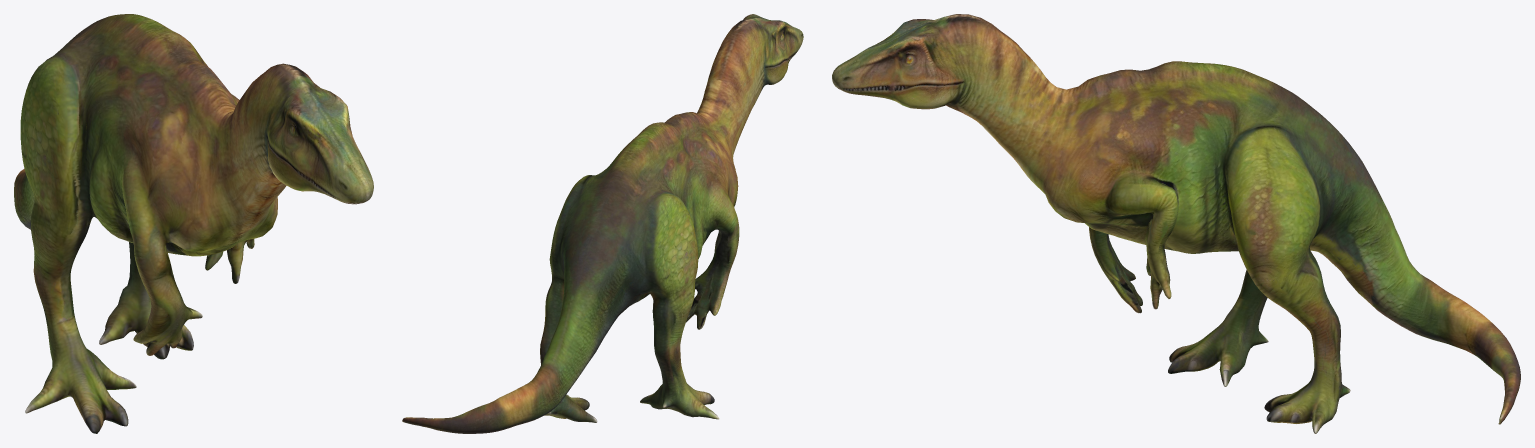
The model's file is 17 Megaraptor 3D.glb.
The picture shows the model from 3 angles, left to right: view 1: azimuth 30°, elevation 25°; view 2: azimuth 150°, elevation 25°; view 3: azimuth 270°, elevation 25°; orthographic projection. The views are drawn at different scales.
Visible parts, largest first — view 1: Mesh0; view 2: Mesh0; view 3: Mesh0.
Part boxes in pixels (<box>): Mesh0: <box>14,14,373,433</box>; Mesh0: <box>402,14,803,433</box>; Mesh0: <box>832,14,1520,433</box>.
Bounding box in the file's own units: 7.1 × 10.12 × 16.7.
1 material, 1 textured.
